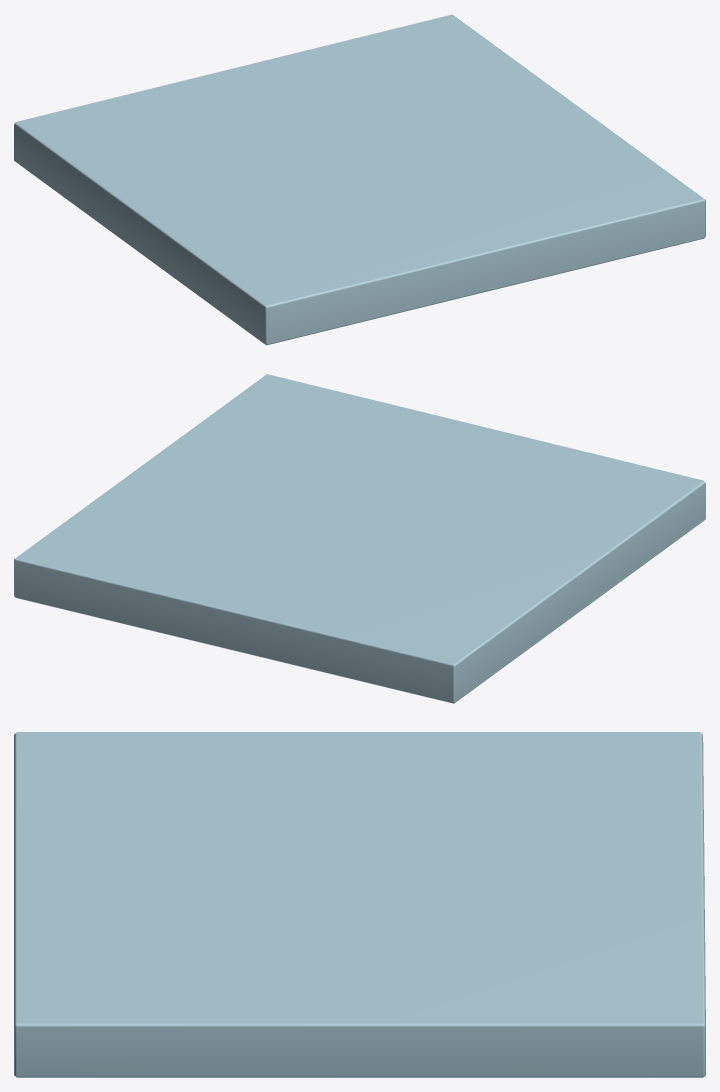
Rendered from Floor_blue.glb.
3 renders of one model, top to bottom at view 1: azimuth 30°, elevation 25°; view 2: azimuth 150°, elevation 25°; view 3: azimuth 270°, elevation 25°, orthographic. The views are drawn at different scales.
Parts seen in each view (by area): view 1: Floor_19; view 2: Floor_19; view 3: Floor_19.
Boxes of the visible parts, x1=… form: Floor_19: x1=14, y1=14, x2=705, y2=345; Floor_19: x1=14, y1=374, x2=705, y2=703; Floor_19: x1=14, y1=732, x2=705, y2=1077.
Bounding box in the file's own units: 4.6 × 0.4 × 4.58.
Materials: 1 (1 with a texture image).
